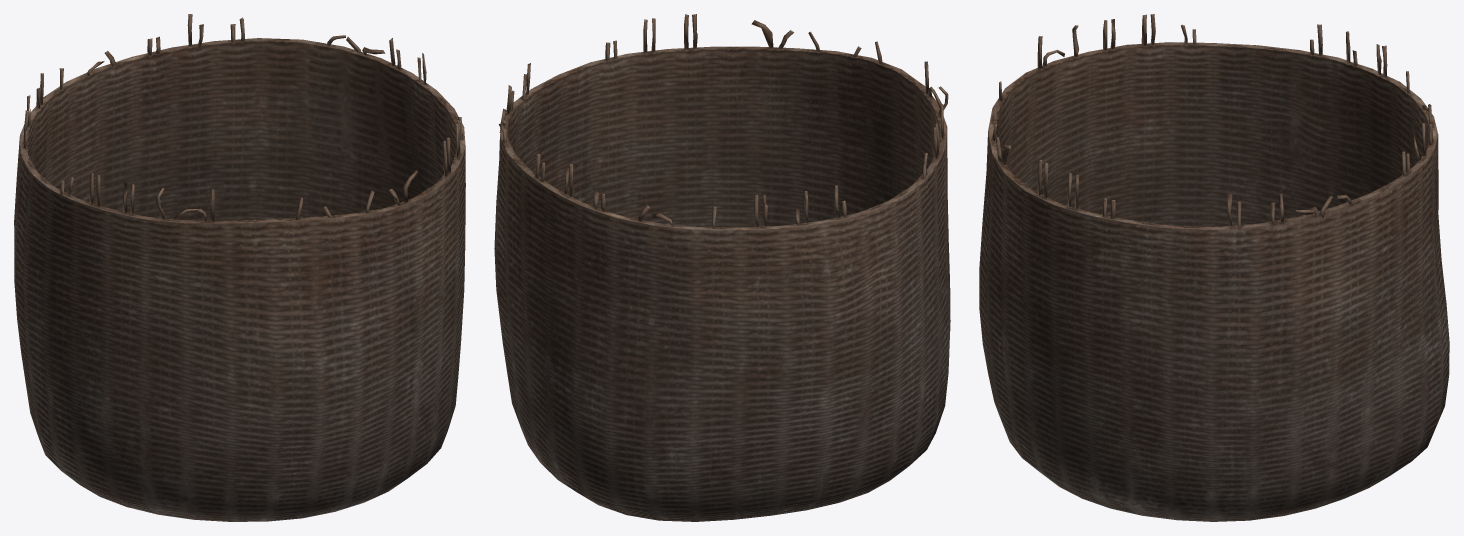
The model's file is SM_WovenBasket.fbx.
3 views of the same model, side by side, from view 1: azimuth 30°, elevation 25°; view 2: azimuth 150°, elevation 25°; view 3: azimuth 270°, elevation 25° (orthographic).
Visible parts, largest first — view 1: SM_WovenBasket_LOD0; view 2: SM_WovenBasket_LOD0; view 3: SM_WovenBasket_LOD0.
Part boxes in pixels (<box>): SM_WovenBasket_LOD0: <box>14,14,465,521</box>; SM_WovenBasket_LOD0: <box>494,14,950,521</box>; SM_WovenBasket_LOD0: <box>979,14,1449,521</box>.
Size of the model in its own units: 59.19 by 59.69 by 50.31.
